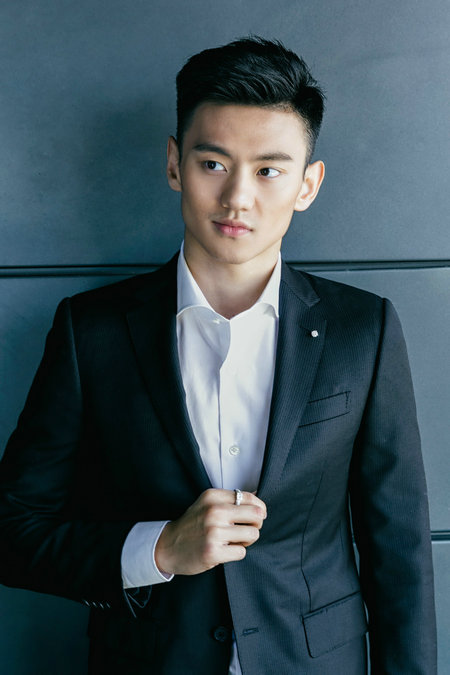person: (1, 32, 449, 675)
